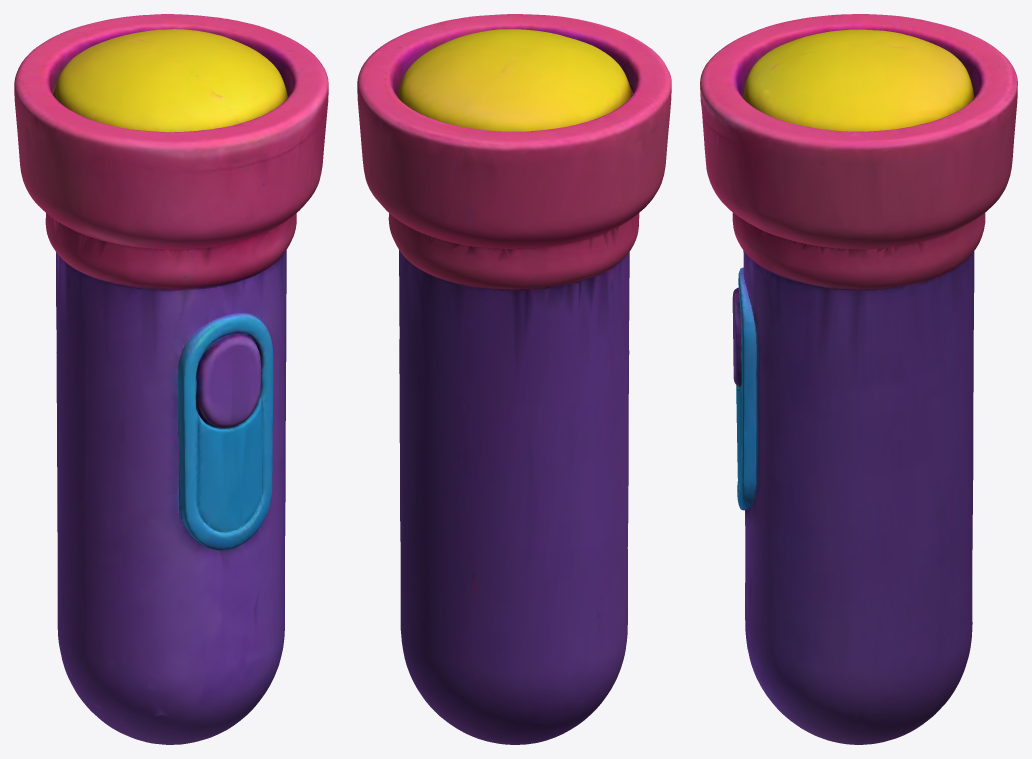
The model's file is torch__main__r2__p2.glb.
3 renders of one model, left to right at view 1: azimuth 30°, elevation 25°; view 2: azimuth 150°, elevation 25°; view 3: azimuth 270°, elevation 25°, orthographic.
Parts seen in each view (by area): view 1: model; view 2: model; view 3: model.
Boxes of the visible parts, x1=… form: model: x1=14, y1=14, x2=328, y2=744; model: x1=357, y1=14, x2=671, y2=744; model: x1=700, y1=14, x2=1017, y2=744.
Bounding box in the file's own units: 0.7559 × 1.82 × 0.7655.
Materials: 1 (1 with a texture image).
